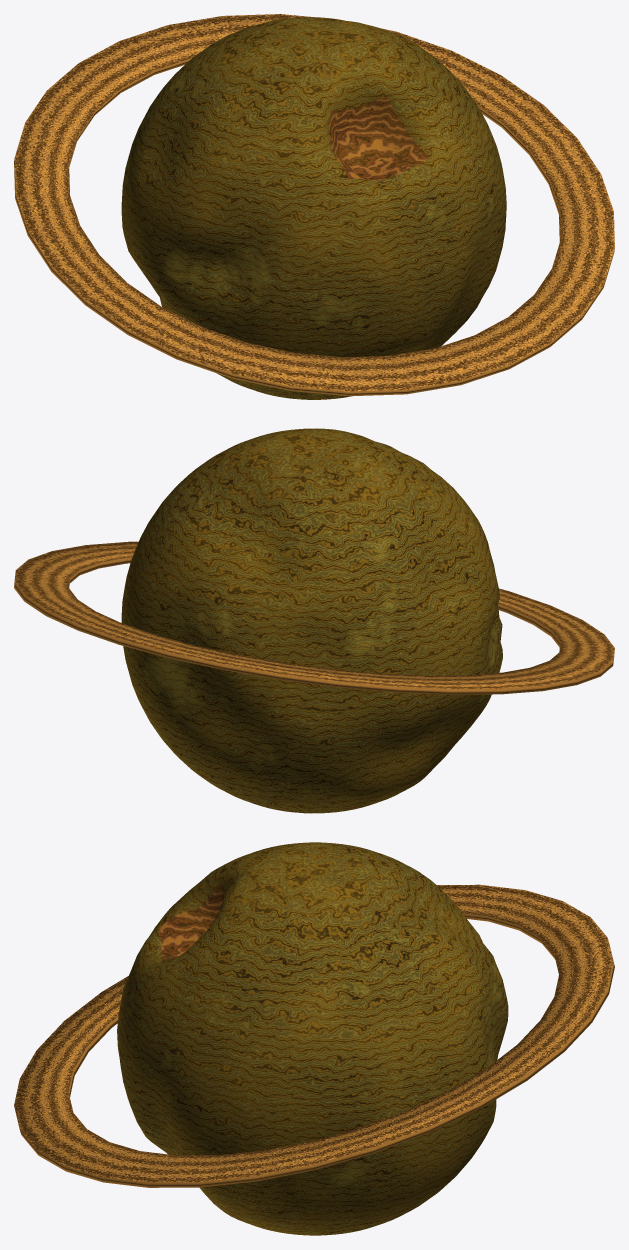
The model's file is planet2.fbx.
The picture shows the model from 3 angles, top to bottom: view 1: azimuth 30°, elevation 25°; view 2: azimuth 150°, elevation 25°; view 3: azimuth 270°, elevation 25°; orthographic projection. The views are drawn at different scales.
Parts seen in each view (by area): view 1: Sphere, Circle; view 2: Sphere, Circle; view 3: Sphere, Circle.
Part boxes in pixels (box(x1,y1,x2,y2)): Sphere: box(121, 17, 506, 399); Circle: box(14, 14, 614, 396); Sphere: box(121, 428, 502, 813); Circle: box(14, 541, 614, 694); Sphere: box(117, 842, 508, 1235); Circle: box(14, 884, 614, 1187).
Bounding box in the file's own units: 315 × 198 × 305.
3 materials, 3 textured.
